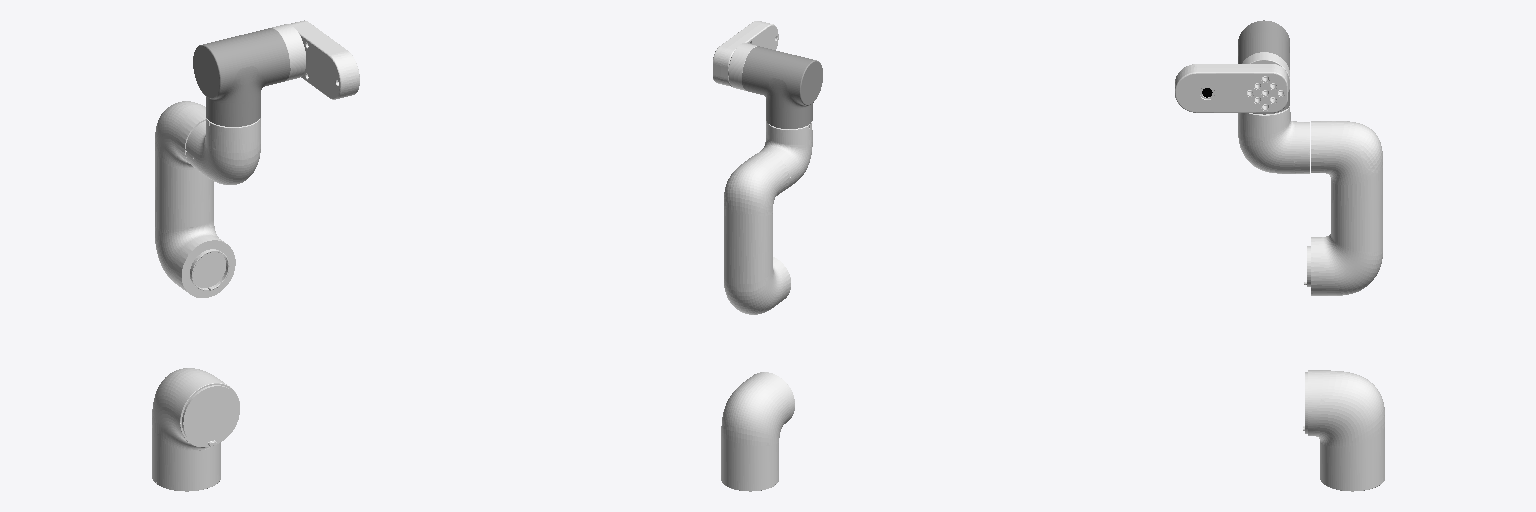
URDF robot description (mycobot_280_jn):
<?xml version="1.0"?>
<robot name="mycobot_280_jn">
  <link name="world"/>
  <joint name="world_to_g_base" type="fixed"><parent link="world"/><child link="g_base"/><origin xyz="0 0 0" rpy="0 0 0"/></joint>

  <link name="g_base">
    <visual>
      <geometry><mesh filename="package://mycobot_description/urdf/mycobot_280_jn_sim/meshes/visual/g_base.dae"/></geometry>
    </visual>
    <collision>
      <geometry><mesh filename="package://mycobot_description/urdf/mycobot_280_jn_sim/meshes/collision/g_base.stl"/></geometry>
    </collision>
    <inertial>
      <origin xyz="0.000004 0.000000 0.016000" rpy="0 0 0"/>
      <mass value="1.00000"/>
      <inertia ixx="1.9413e-03" ixy="3.1506e-09" ixz="8.1608e-14" iyy="1.0835e-03" iyz="-2.2217e-08" izz="2.8542e-03"/>
    </inertial>
  </link>
  <joint name="g_base_to_joint1" type="fixed"><parent link="g_base"/><child link="joint1"/><origin xyz="0 0 0.0320" rpy="0 0 0"/></joint>

  <link name="joint1">
    <visual>
      <geometry><mesh filename="package://mycobot_description/urdf/mycobot_280_jn_sim/meshes/visual/joint1.dae"/></geometry>
    </visual>
    <collision>
      <geometry><mesh filename="package://mycobot_description/urdf/mycobot_280_jn_sim/meshes/collision/joint1.stl"/></geometry>
    </collision>
    <inertial>
      <origin xyz="-0.000007 -0.000080 0.049738" rpy="0 0 0"/>
      <mass value="0.51726"/>
      <inertia ixx="1.2523e-03" ixy="7.0339e-09" ixz="-6.3450e-08" iyy="9.3955e-04" iyz="1.1529e-06" izz="1.2061e-03"/>
    </inertial>
  </link>
  <link name="joint2">
    <visual>
      <geometry><mesh filename="package://mycobot_description/urdf/mycobot_280_jn_sim/meshes/visual/joint2.dae"/></geometry>
    </visual>
    <collision>
      <geometry><mesh filename="package://mycobot_description/urdf/mycobot_280_jn_sim/meshes/collision/joint2.stl"/></geometry>
    </collision>
    <inertial>
      <origin xyz="-0.000000 -0.006642 -0.021543" rpy="0 0 0"/>
      <mass value="0.06483"/>
      <inertia ixx="4.7296e-05" ixy="-1.4455e-10" ixz="4.0893e-11" iyy="4.2690e-05" iyz="5.2950e-06" izz="2.4363e-05"/>
    </inertial>
  </link>
  <link name="joint3">
    <visual>
      <geometry><mesh filename="package://mycobot_description/urdf/mycobot_280_jn_sim/meshes/visual/joint3.dae"/></geometry>
    </visual>
    <collision>
      <geometry><mesh filename="package://mycobot_description/urdf/mycobot_280_jn_sim/meshes/collision/joint3.stl"/></geometry>
    </collision>
    <inertial>
      <origin xyz="-0.054329 -0.000001 0.055329" rpy="0 0 0"/>
      <mass value="0.11472"/>
      <inertia ixx="4.1667e-05" ixy="-4.5301e-09" ixz="-7.2144e-07" iyy="2.1506e-04" iyz="-8.8599e-10" izz="2.0847e-04"/>
    </inertial>
  </link>
  <link name="joint4">
    <visual>
      <geometry><mesh filename="package://mycobot_description/urdf/mycobot_280_jn_sim/meshes/visual/joint4.dae"/></geometry>
    </visual>
    <collision>
      <geometry><mesh filename="package://mycobot_description/urdf/mycobot_280_jn_sim/meshes/collision/joint4.stl"/></geometry>
    </collision>
    <inertial>
      <origin xyz="-0.045854 0.000000 0.007555" rpy="0 0 0"/>
      <mass value="0.09148"/>
      <inertia ixx="3.0829e-05" ixy="2.4590e-09" ixz="-3.0073e-06" iyy="1.3707e-04" iyz="1.3305e-09" izz="1.2859e-04"/>
    </inertial>
  </link>
  <link name="joint5">
    <visual>
      <geometry><mesh filename="package://mycobot_description/urdf/mycobot_280_jn_sim/meshes/visual/joint5.dae"/></geometry>
    </visual>
    <collision>
      <geometry><mesh filename="package://mycobot_description/urdf/mycobot_280_jn_sim/meshes/collision/joint5.stl"/></geometry>
    </collision>
    <inertial>
      <origin xyz="0.000001 -0.009519 -0.008481" rpy="0 0 0"/>
      <mass value="0.02935"/>
      <inertia ixx="1.1293e-05" ixy="2.2528e-10" ixz="1.0500e-10" iyy="8.1426e-06" iyz="1.6096e-06" izz="8.8742e-06"/>
    </inertial>
  </link>
  <link name="joint6">
    <visual>
      <geometry><mesh filename="package://mycobot_description/urdf/mycobot_280_jn_sim/meshes/visual/joint6.dae"/></geometry>
    </visual>
    <collision>
      <geometry><mesh filename="package://mycobot_description/urdf/mycobot_280_jn_sim/meshes/collision/joint6.stl"/></geometry>
    </collision>
    <inertial>
      <origin xyz="-0.000000 0.005619 -0.009142" rpy="0 0 0"/>
      <mass value="0.03671"/>
      <inertia ixx="1.6852e-05" ixy="1.3225e-11" ixz="9.2639e-11" iyy="1.2050e-05" iyz="-8.3674e-07" izz="1.2581e-05"/>
    </inertial>
  </link>
  <link name="joint6_flange">
    <visual>
      <geometry><mesh filename="package://mycobot_description/urdf/mycobot_280_jn_sim/meshes/visual/joint6_flange.dae"/></geometry>
    </visual>
    <collision>
      <geometry><mesh filename="package://mycobot_description/urdf/mycobot_280_jn_sim/meshes/collision/joint6_flange.stl"/></geometry>
    </collision>
    <inertial>
      <origin xyz="-0.000000 -0.000000 -0.005150" rpy="0 0 0"/>
      <mass value="0.00565"/>
      <inertia ixx="6.0852e-07" ixy="-5.1861e-24" ixz="1.4684e-24" iyy="6.0852e-07" iyz="-7.5632e-16" izz="1.0405e-06"/>
    </inertial>
  </link>
  <joint name="joint2_to_joint1" type="revolute">
    <parent link="joint1"/><child link="joint2"/>
    <origin xyz="0 0 0.15756" rpy="0 0 0"/>
    <axis xyz="0 0 1"/>
    <limit effort="10.0" lower="-2.9321" upper="2.9321" velocity="1.0"/>
    <dynamics damping="0.1" friction="0.01"/>
  </joint>
  <joint name="joint3_to_joint2" type="revolute">
    <parent link="joint2"/><child link="joint3"/>
    <origin xyz="0 0 -0.001" rpy="0 1.5708 -1.5708"/>
    <axis xyz="0 0 1"/>
    <limit effort="10.0" lower="-2.4434" upper="2.4434" velocity="1.0"/>
    <dynamics damping="0.1" friction="0.01"/>
  </joint>
  <joint name="joint4_to_joint3" type="revolute">
    <parent link="joint3"/><child link="joint4"/>
    <origin xyz="-0.1104 0 0" rpy="0 0 0"/>
    <axis xyz="0 0 1"/>
    <limit effort="10.0" lower="-2.6179" upper="2.6179" velocity="1.0"/>
    <dynamics damping="0.1" friction="0.01"/>
  </joint>
  <joint name="joint5_to_joint4" type="revolute">
    <parent link="joint4"/><child link="joint5"/>
    <origin xyz="-0.096 0 0.06462" rpy="0 0 -1.5708"/>
    <axis xyz="0 0 1"/>
    <limit effort="10.0" lower="-2.6179" upper="2.6179" velocity="1.0"/>
    <dynamics damping="0.1" friction="0.01"/>
  </joint>
  <joint name="joint6_to_joint5" type="revolute">
    <parent link="joint5"/><child link="joint6"/>
    <origin xyz="0 -0.07318 0" rpy="1.5708 -1.5708 0"/>
    <axis xyz="0 0 1"/>
    <limit effort="10.0" lower="-2.7052" upper="2.7925" velocity="1.0"/>
    <dynamics damping="0.1" friction="0.01"/>
  </joint>
  <joint name="joint6output_to_joint6" type="revolute">
    <parent link="joint6"/><child link="joint6_flange"/>
    <origin xyz="0 0.0456 0" rpy="-1.5708 0 0"/>
    <axis xyz="0 0 1"/>
    <limit effort="10.0" lower="-3.14159" upper="3.14159" velocity="1.0"/>
    <dynamics damping="0.1" friction="0.01"/>
  </joint>
  <joint name="joint6output_to_camera_flange" type="fixed">
    <parent link="joint6_flange"/><child link="camera_flange"/>
    <origin xyz="0 0 0.01" rpy="1.5708 0 0"/>
  </joint>
  <link name="camera_flange">
    <visual>
      <geometry><mesh filename="package://mycobot_description/urdf/mycobot_280_jn_sim/meshes/visual/camera_flange.dae"/></geometry>
    </visual>
    <collision>
      <geometry><mesh filename="package://mycobot_description/urdf/mycobot_280_jn_sim/meshes/collision/camera_flange.stl"/></geometry>
    </collision>
    <inertial>
      <origin xyz="0.023130 0.000000 -0.000136" rpy="0 0 0"/>
      <mass value="0.03000"/>
      <inertia ixx="3.1836e-06" ixy="2.6569e-11" ixz="-3.1215e-09" iyy="1.7767e-05" iyz="4.1651e-11" izz="1.5849e-05"/>
    </inertial>
  </link>

  <!-- Simulated camera, placed on the lens of Elephant's camera-module mesh and looking out of it. -->
  <link name="camera_link"/>
  <joint name="camera_flange_to_camera_link" type="fixed">
    <parent link="camera_flange"/><child link="camera_link"/>
    <origin xyz="0.0415 0.0083 0.0000" rpy="0 0 1.5708"/>
  </joint>
  <gazebo reference="camera_link">
    <sensor name="wrist_camera" type="camera">
      <always_on>1</always_on><update_rate>30</update_rate><visualize>true</visualize>
      <topic>wrist_camera/image_raw</topic>
      <camera>
        <horizontal_fov>1.047</horizontal_fov>
        <image><width>640</width><height>480</height><format>R8G8B8</format></image>
        <clip><near>0.02</near><far>5.0</far></clip>
      </camera>
    </sensor>
  </gazebo>

  <!-- Gazebo: gravity off on the moving links (passive joints would otherwise fall; no controller yet) -->
  <gazebo reference="joint2"><turnGravityOff>true</turnGravityOff></gazebo>
  <gazebo reference="joint3"><turnGravityOff>true</turnGravityOff></gazebo>
  <gazebo reference="joint4"><turnGravityOff>true</turnGravityOff></gazebo>
  <gazebo reference="joint5"><turnGravityOff>true</turnGravityOff></gazebo>
  <gazebo reference="joint6"><turnGravityOff>true</turnGravityOff></gazebo>
  <gazebo reference="joint6_flange"><turnGravityOff>true</turnGravityOff></gazebo>
  <gazebo reference="camera_flange"><turnGravityOff>true</turnGravityOff></gazebo>
</robot>

--- Facts derived from the render (not from the file) ---
Views: 3 orthographic renders of the robot side by side, from view 1: azimuth 30°, elevation 25°; view 2: azimuth 150°, elevation 25°; view 3: azimuth 270°, elevation 25°.
Model mycobot_280_jn with 11 links and 10 joints (6 revolute, 4 fixed), rooted at world, posed every joint at zero.
Visible links, largest first — view 1: joint4, joint2, joint6, joint5, camera_flange, joint6_flange; view 2: joint4, joint2, joint6, joint5, camera_flange, joint6_flange; view 3: joint4, joint2, camera_flange, joint5, joint6.
Boxes of the visible links, x1,y1,x2,y2 form: joint4: [155, 101, 235, 297]; joint2: [152, 368, 239, 491]; joint6: [193, 28, 290, 126]; joint5: [185, 118, 260, 184]; camera_flange: [290, 20, 359, 99]; joint6_flange: [272, 24, 305, 80]; joint4: [724, 152, 790, 314]; joint2: [721, 372, 794, 491]; joint6: [742, 46, 822, 128]; joint5: [760, 121, 812, 190]; camera_flange: [713, 21, 778, 86]; joint6_flange: [728, 43, 756, 90]; joint4: [1304, 121, 1382, 295]; joint2: [1303, 370, 1384, 491]; camera_flange: [1175, 64, 1287, 112]; joint5: [1238, 106, 1309, 173]; joint6: [1238, 20, 1289, 114].
Size in the robot's own frame: 0.0876 by 0.1541 by 0.3619 metres.
Meshes: 9 distinct files referenced, 6 mesh visuals loaded (6 Collada DAE); not drawn: 3 (reference not matched to a file when rendering).
